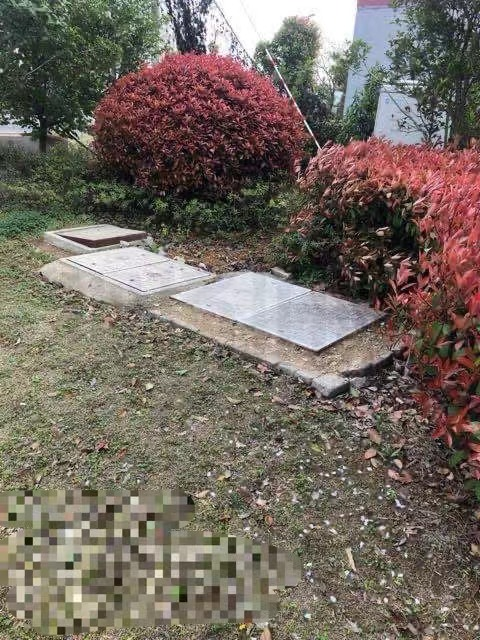well: (101, 264, 442, 373), (52, 228, 225, 298)
